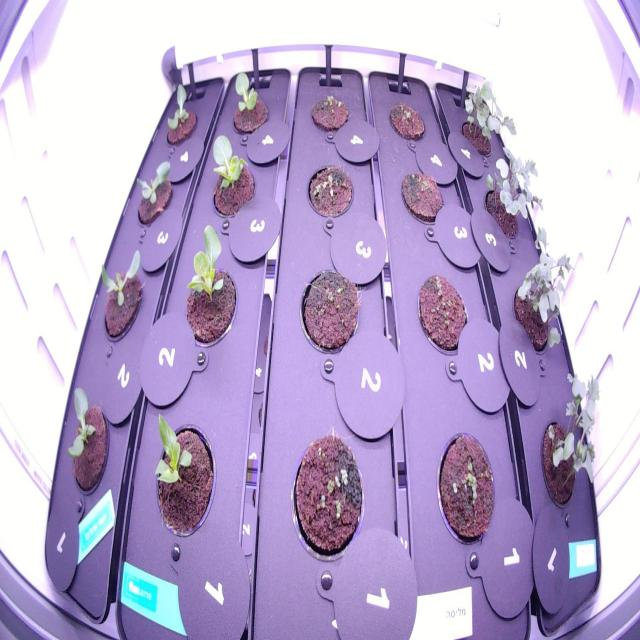germination: (285, 424, 369, 577), (431, 417, 501, 557), (295, 260, 365, 362), (414, 264, 476, 370), (392, 159, 452, 236), (301, 157, 358, 224), (304, 82, 356, 144), (382, 95, 431, 146)
young: (146, 390, 220, 550), (173, 216, 245, 357), (55, 378, 115, 502), (203, 125, 268, 230), (91, 238, 147, 354), (127, 152, 179, 237), (226, 60, 274, 144), (158, 78, 203, 154)
